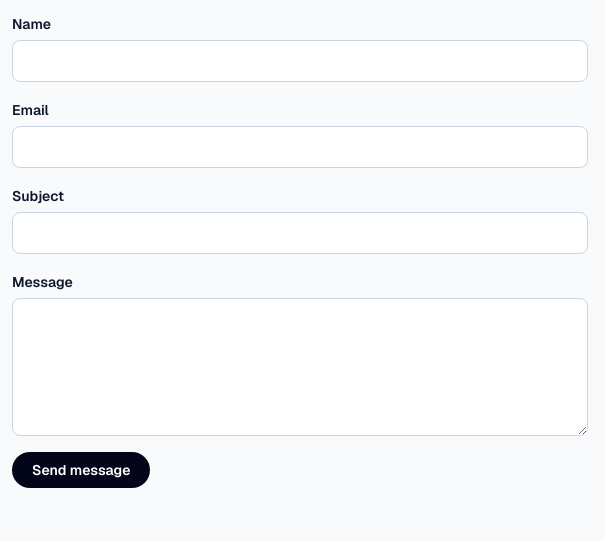
announces success and clears the form
The image size is (605, 541).
Type "Grace" into the field labelled "Name" at (300, 61), box left=12, top=40, right=588, bottom=82
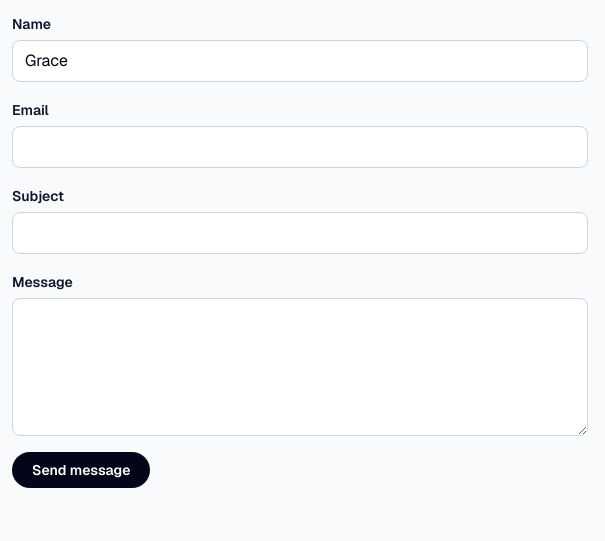
Type "bad" into the field labelled "Email" at (300, 147), box left=12, top=126, right=588, bottom=168
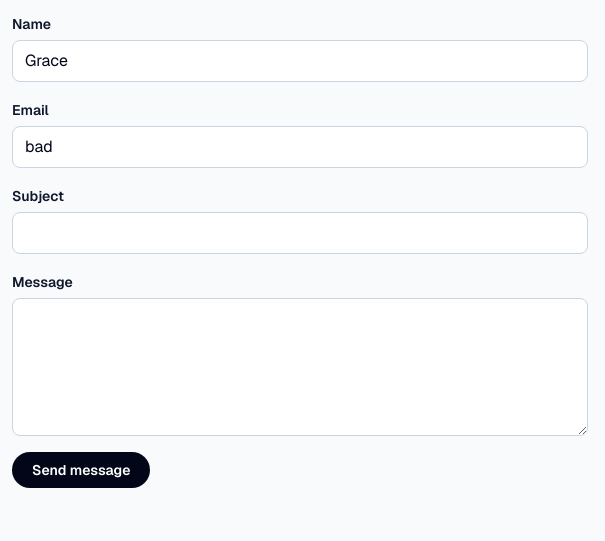
Type "Hi" into the field labelled "Subject" at (300, 233), box left=12, top=212, right=588, bottom=254
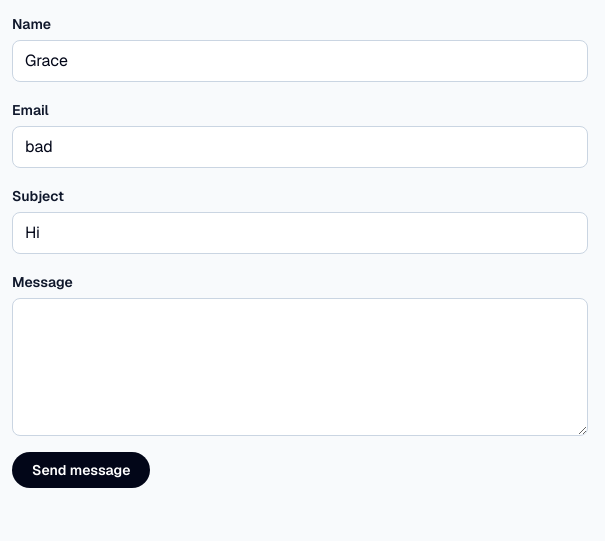
Type "Hello" into the text box labelled "Message" at (300, 367), box left=12, top=298, right=588, bottom=436
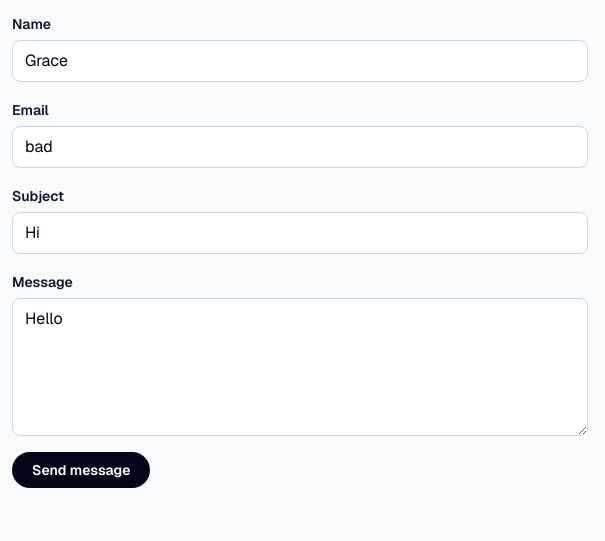
Submit the form "Name Email Subject Message Send message"
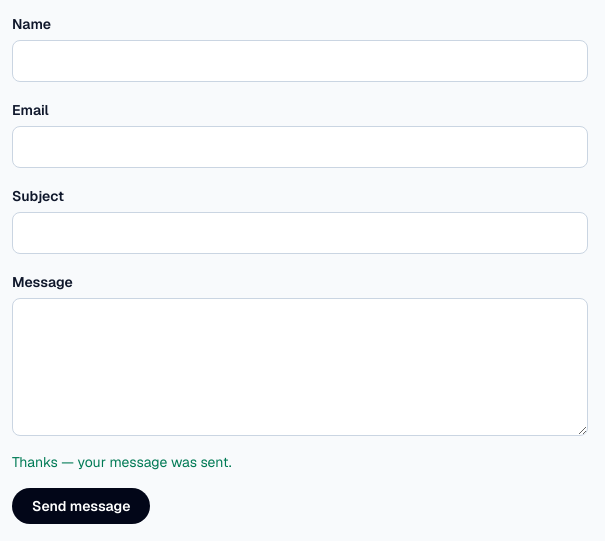
Now the message reads "Thanks — your message was sent.", box left=12, top=453, right=232, bottom=471
Now the field labelled "Name" is empty, box left=12, top=40, right=588, bottom=82
